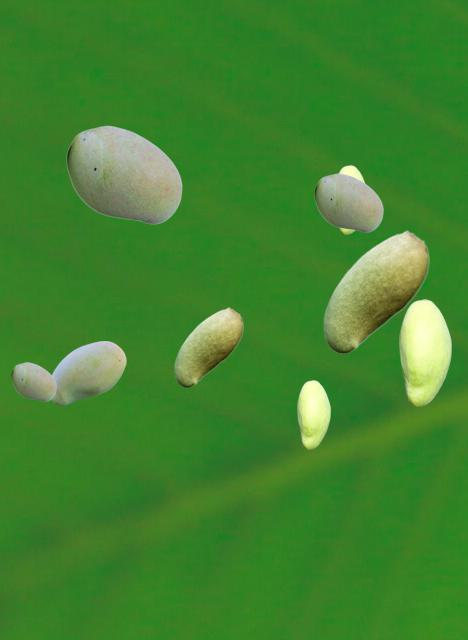green_mango: (323, 230, 428, 352), (66, 125, 181, 223), (399, 299, 450, 405), (174, 307, 242, 386), (51, 341, 125, 404), (314, 173, 382, 231), (297, 380, 329, 448), (338, 165, 365, 233), (11, 362, 55, 400)
